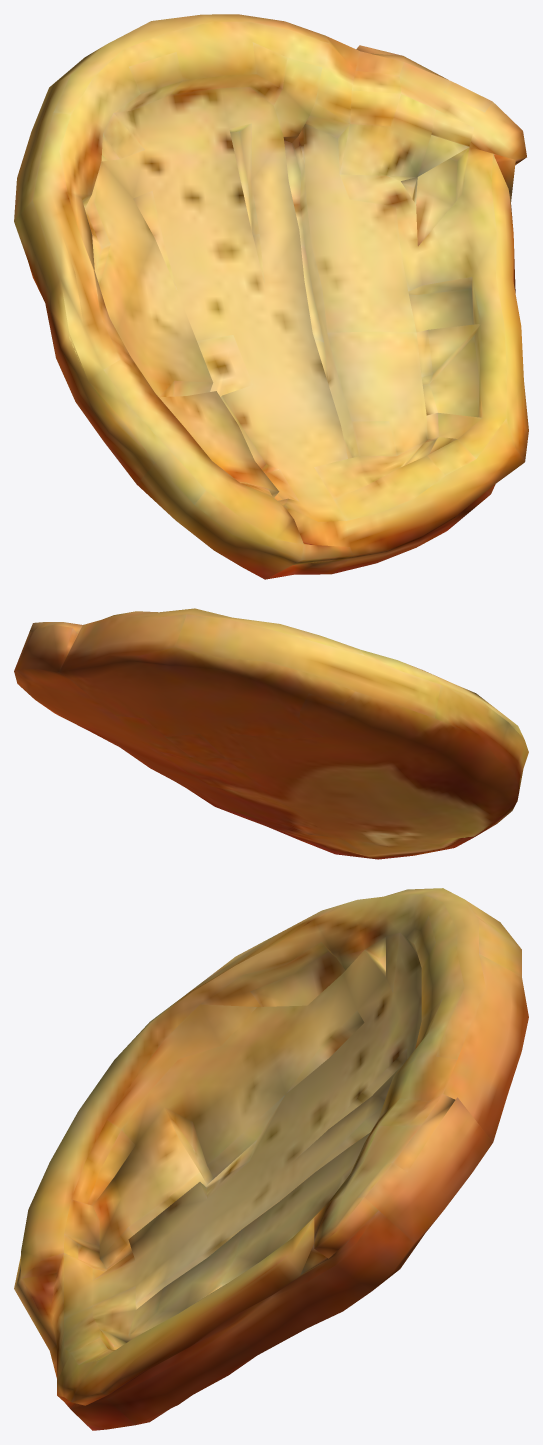
The model's file is tortillas.glb.
The picture shows the model from 3 angles, top to bottom: view 1: azimuth 30°, elevation 25°; view 2: azimuth 150°, elevation 25°; view 3: azimuth 270°, elevation 25°; orthographic projection. The views are drawn at different scales.
Parts seen in each view (by area): view 1: Tortillas; view 2: Tortillas; view 3: Tortillas.
Part boxes in pixels (left/top/right/bottom): Tortillas: left=14, top=14, right=528, bottom=579; Tortillas: left=14, top=608, right=528, bottom=859; Tortillas: left=14, top=888, right=528, bottom=1430.
Bounding box in the file's own units: 1.4 × 1.1 × 1.11.
1 material, 1 textured.
